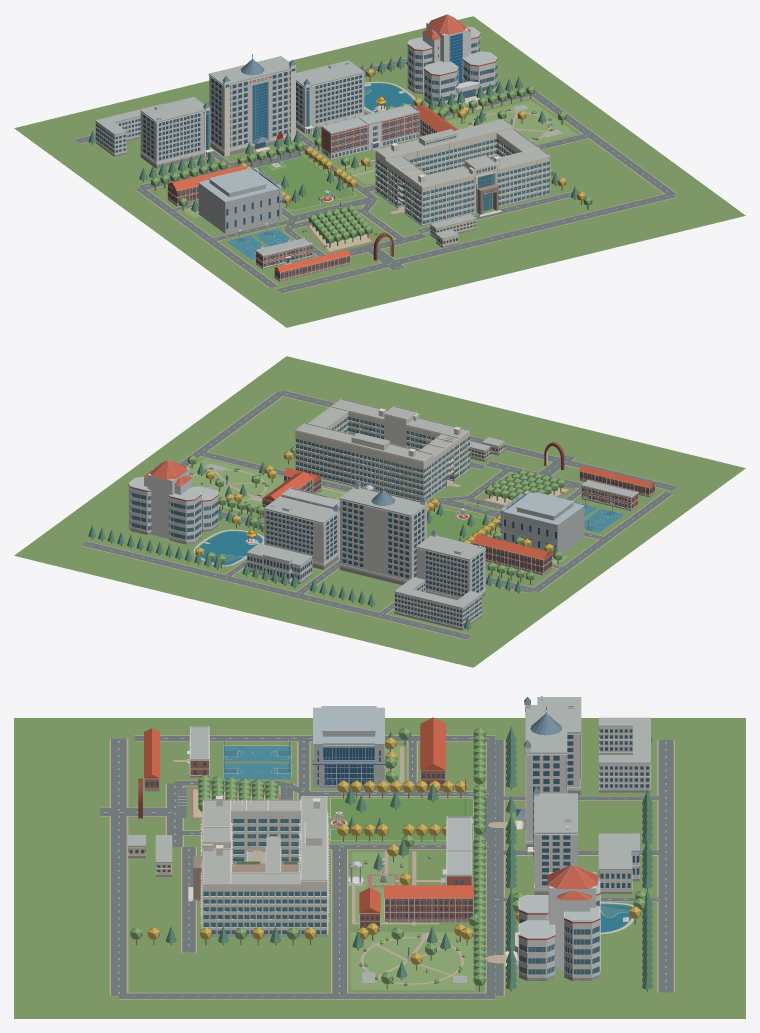
The model's file is district.glb.
The picture shows the model from 3 angles, top to bottom: view 1: azimuth 30°, elevation 25°; view 2: azimuth 150°, elevation 25°; view 3: azimuth 270°, elevation 25°; orthographic projection. The views are drawn at different scales.
Visible parts, largest first — view 1: District_Ground_district_grass, District_Ground_district_asphalt, District_Teaching9_teaching9_pale_tile, District_Trees_district_leaf_summer, District_Teaching9_teaching9_blue_glass, District_Teaching9_teaching9_light_trim, District_Teaching9_teaching9_roof_concrete, Siyuan_Main_ivory_stone, District_Library_library_ivory, District_Ground_district_paving, District_TianyouHall_tianyou_grey_tile, District_Trees_district_leaf_conifer (+34 smaller); view 2: District_Ground_district_grass, District_Ground_district_asphalt, District_Teaching9_teaching9_pale_tile, Siyuan_Main_ivory_stone, District_Library_library_ivory, District_Teaching9_teaching9_blue_glass, District_Teaching9_teaching9_roof_concrete, District_Ground_district_paving, District_Trees_district_leaf_conifer, District_Trees_district_leaf_summer, District_Teaching9_teaching9_light_trim, District_TianyouHall_tianyou_grey_tile (+31 smaller); view 3: District_Ground_district_grass, District_Ground_district_asphalt, District_Landscape_district_lawn, District_Ground_district_paving, District_Trees_district_leaf_summer, District_Teaching9_teaching9_roof_concrete, District_Teaching9_teaching9_pale_tile, District_Trees_district_leaf_conifer, District_Library_library_ivory, District_Forecourt_forecourt_lawn, District_Teaching9_teaching9_light_trim, District_Trees_district_leaf_gold (+37 smaller).
Part boxes in pixels (x1,y1,x2,y2): District_Ground_district_grass: (14,16,745,327); District_Ground_district_asphalt: (75,58,676,292); District_Teaching9_teaching9_pale_tile: (375,127,550,224); District_Trees_district_leaf_summer: (150,85,592,243); District_Teaching9_teaching9_blue_glass: (375,136,549,223); District_Teaching9_teaching9_light_trim: (375,119,551,225); District_Teaching9_teaching9_roof_concrete: (375,120,550,225); Siyuan_Main_ivory_stone: (209,69,290,152); District_Library_library_ivory: (407,22,497,105); District_Ground_district_paving: (75,58,677,293); District_TianyouHall_tianyou_grey_tile: (198,167,282,233); District_Trees_district_leaf_conifer: (88,55,577,211); District_Ground_district_grass: (14,356,745,667); District_Ground_district_asphalt: (81,390,677,639); District_Teaching9_teaching9_pale_tile: (295,407,469,500); Siyuan_Main_ivory_stone: (340,499,426,582); District_Library_library_ivory: (128,467,218,544); District_Teaching9_teaching9_blue_glass: (296,417,469,500); District_Teaching9_teaching9_roof_concrete: (297,400,470,502); District_Ground_district_paving: (81,390,677,639); District_Trees_district_leaf_conifer: (88,461,558,628); District_Trees_district_leaf_summer: (187,446,565,580); District_Teaching9_teaching9_light_trim: (295,398,470,500); District_TianyouHall_tianyou_grey_tile: (500,490,584,553); District_Ground_district_grass: (14,718,745,1018); District_Ground_district_asphalt: (100,736,673,998); District_Landscape_district_lawn: (350,745,474,990); District_Ground_district_paving: (100,735,674,999); District_Trees_district_leaf_summer: (130,727,645,986); District_Teaching9_teaching9_roof_concrete: (203,797,327,936); District_Teaching9_teaching9_pale_tile: (202,799,327,934); District_Trees_district_leaf_conifer: (166,726,652,989); District_Library_library_ivory: (515,872,600,980); District_Forecourt_forecourt_lawn: (330,798,472,840); District_Teaching9_teaching9_light_trim: (188,796,329,935); District_Trees_district_leaf_gold: (147,737,640,965).
Bounding box in the file's own units: 111 × 20.48 × 114.
